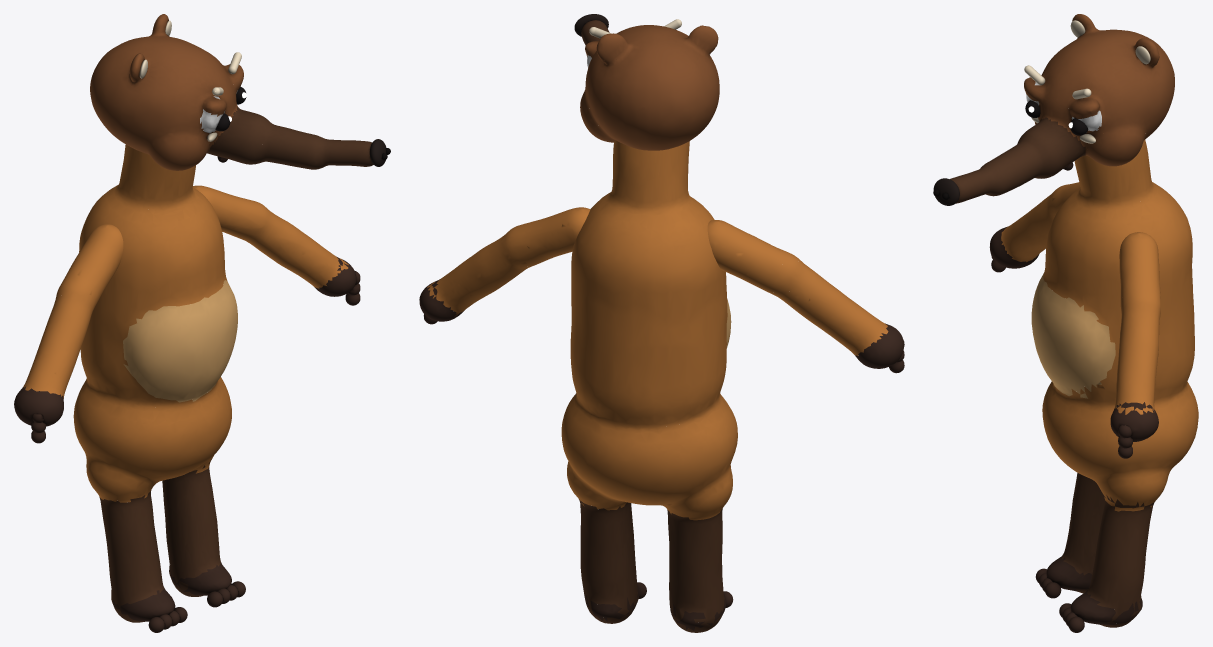
Rendered from ta-pa-dig-jackan.glb.
3 views of the same model, side by side, from view 1: azimuth 30°, elevation 25°; view 2: azimuth 150°, elevation 25°; view 3: azimuth 270°, elevation 25° (orthographic). The views are drawn at different scales.
Visible parts, largest first — view 1: quati__r0, cabeca__r0, bracos__r0; view 2: quati__r0, bracos__r0, cabeca__r0; view 3: quati__r0, cabeca__r0, bracos__r0, cabeca__r12.
Part boxes in pixels (x1,y1,x2,y2): quati__r0: (73, 144, 237, 622); cabeca__r0: (90, 14, 373, 170); bracos__r0: (14, 185, 356, 426); quati__r0: (561, 140, 737, 632); bracos__r0: (419, 207, 904, 368); cabeca__r0: (580, 20, 719, 150); quati__r0: (1031, 139, 1198, 627); cabeca__r0: (950, 14, 1174, 203); bracos__r0: (989, 182, 1160, 441); cabeca__r12: (933, 178, 959, 205).
Bounding box in the file's own units: 1.25 × 1.73 × 0.7176.
